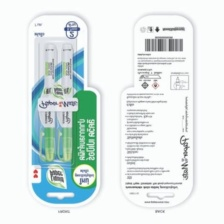book: (24, 13, 102, 209), (119, 14, 194, 207)
correction_fluid: (36, 41, 59, 163), (54, 41, 75, 163)
